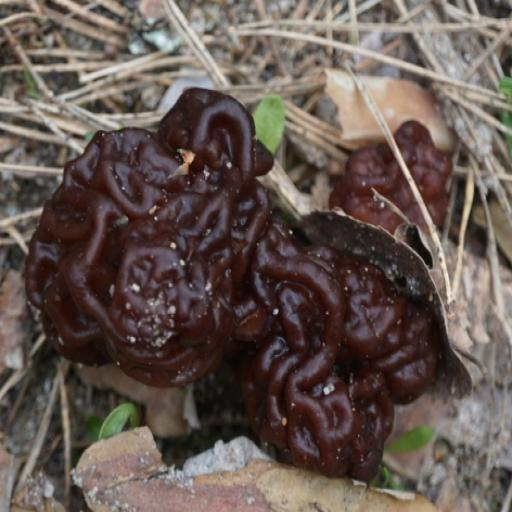mushroom: (0, 44, 510, 508), (2, 54, 299, 404)
